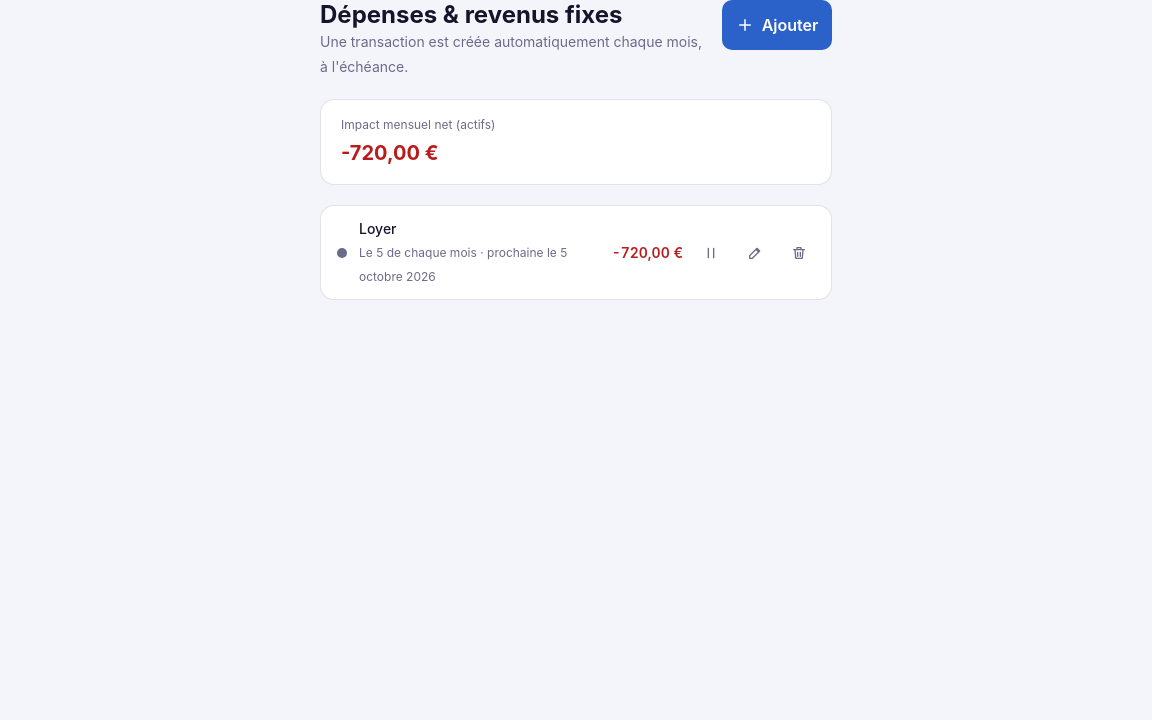
Test: RecurringPage — édition › enregistrer une modification ferme la modale et met la ligne à jour
Click the button named "Modifier Loyer" at (755, 252), box [739,236,771,268]
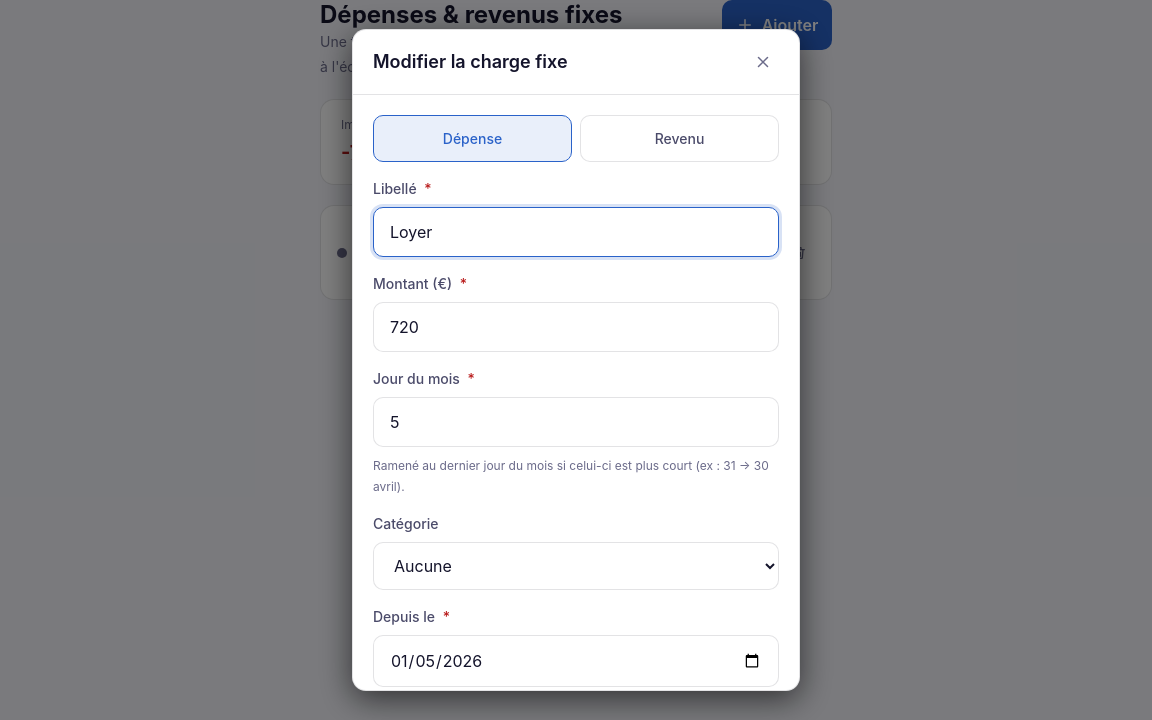
Replace the text in the field with id "recurring-amount" with "730" at (576, 327), box [373,302,779,352]
(page scrolled)
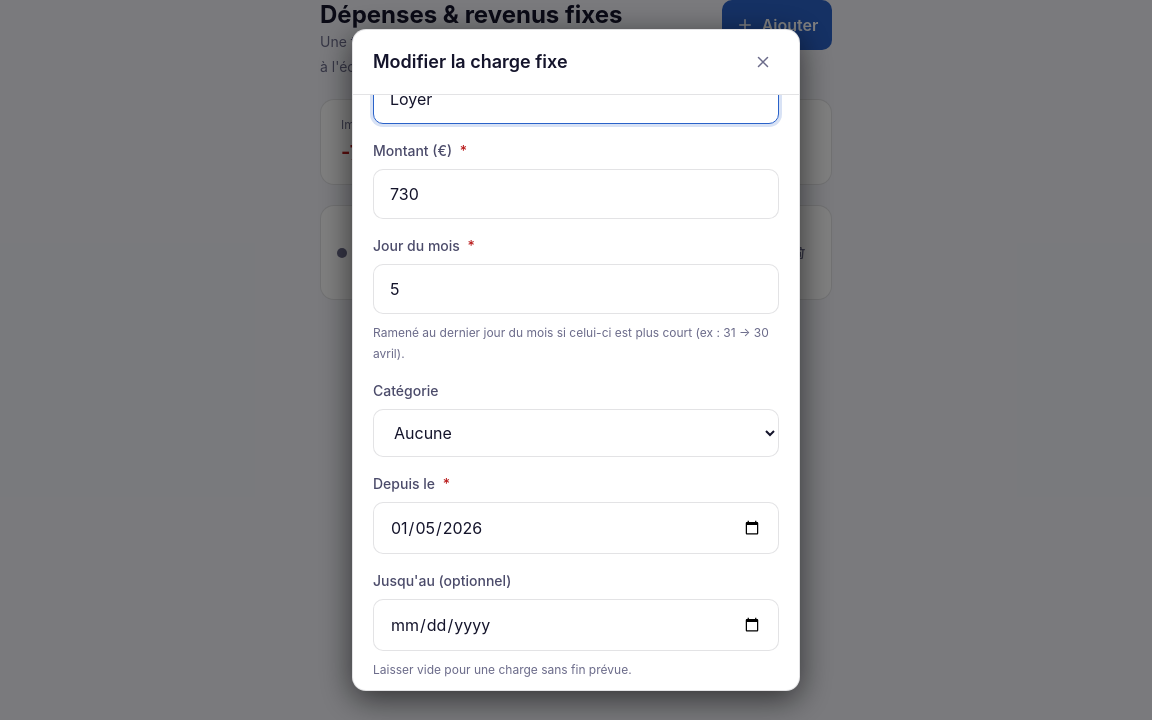
Submit the form
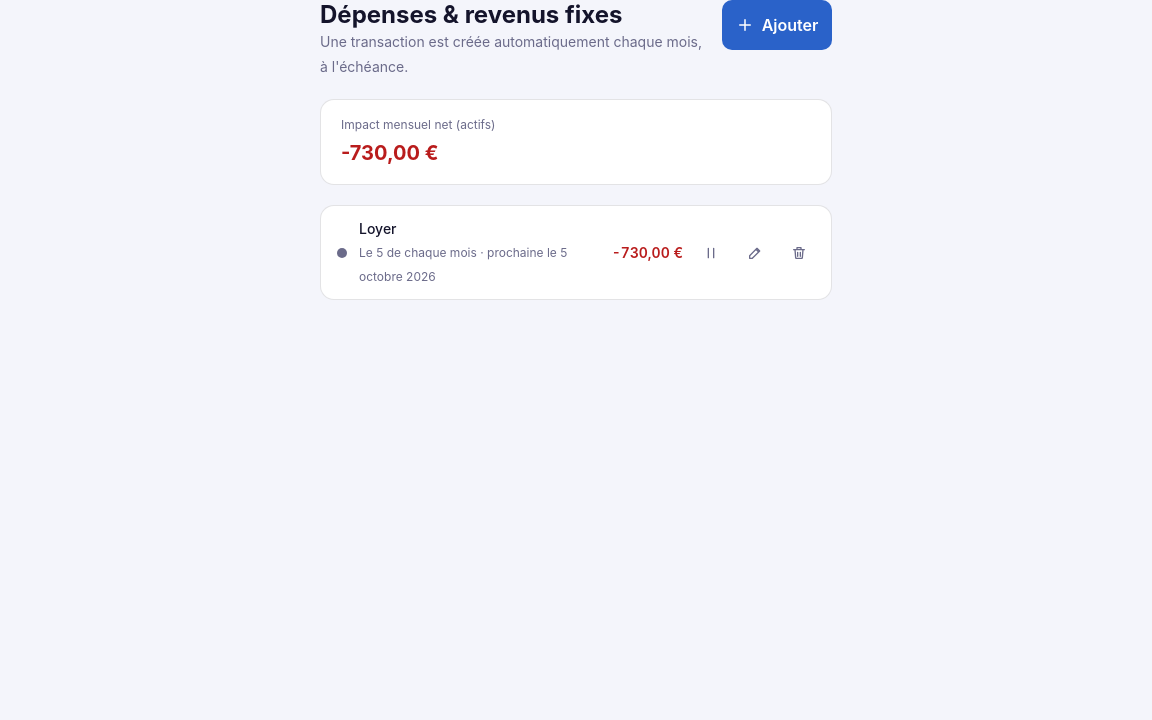
Check: the dialog is gone
Check: the text "730,00" is shown, box [341,141,438,165]
